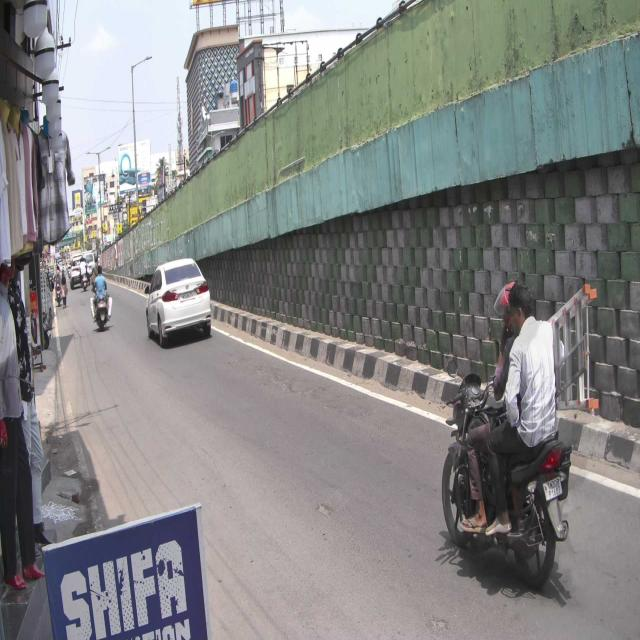double_rider: (442, 278, 573, 586)
